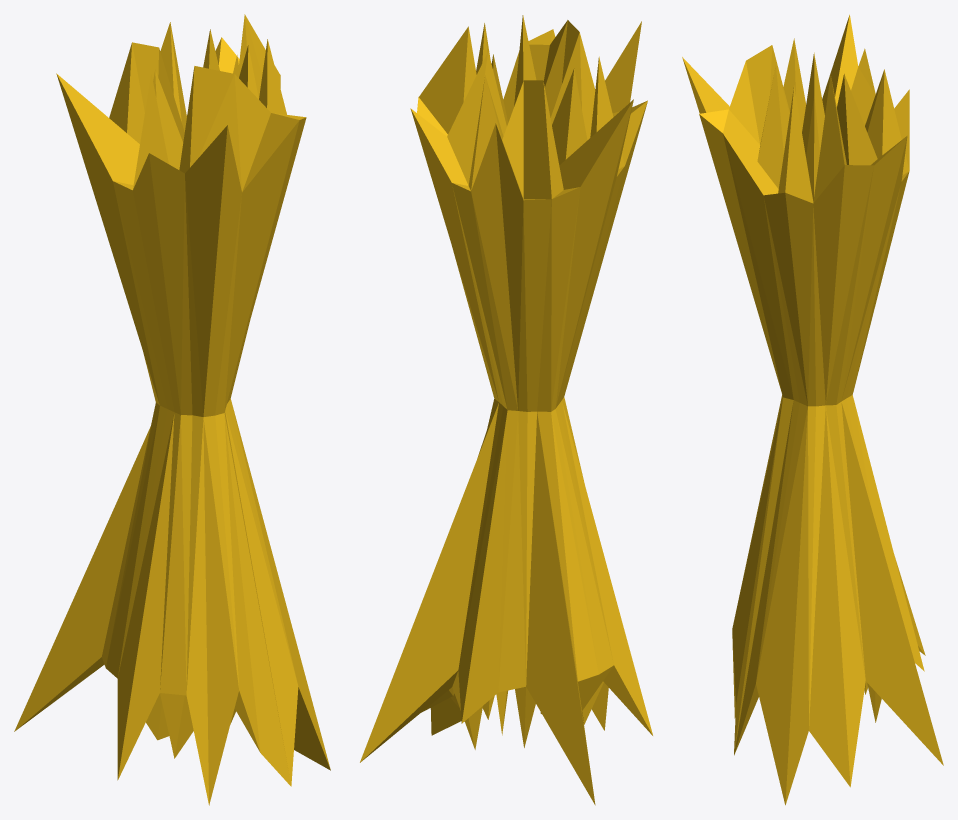
The model's file is Slama.fbx.
3 renders of one model, left to right at view 1: azimuth 30°, elevation 25°; view 2: azimuth 150°, elevation 25°; view 3: azimuth 270°, elevation 25°, orthographic. The views are drawn at different scales.
Visible parts, largest first — view 1: node_id4; view 2: node_id4; view 3: node_id4.
Part boxes in pixels (x1,y1,x2,y2): node_id4: (14, 14, 330, 805); node_id4: (360, 15, 652, 805); node_id4: (682, 14, 943, 805).
Size of the model in its own units: 0.1812 by 0.512 by 0.1726.
1 material, 1 textured.
